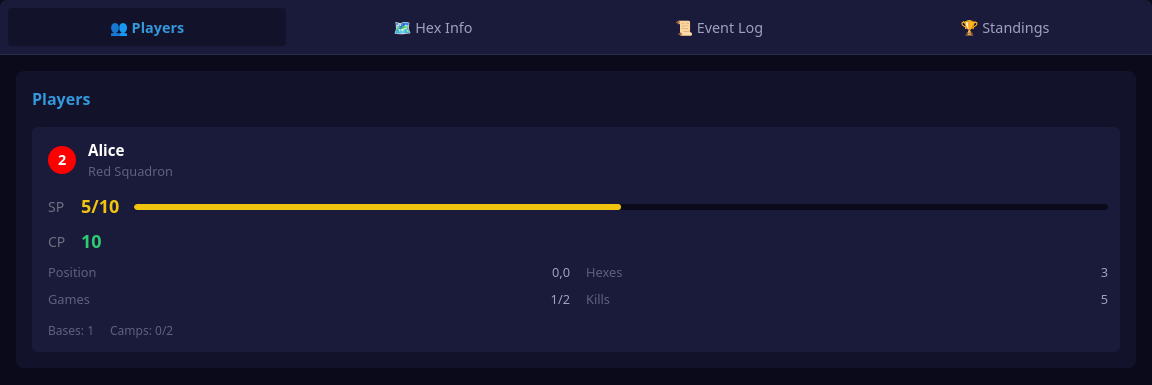
LeftMenuTabs › when rendering tab content › should display event log when Event Log tab is active
What coordinates should you click on to do the following:
click the tab "📜 Event Log"
I would click on:
 (719, 27)
Its box is top-left (580, 8), bottom-right (858, 46).
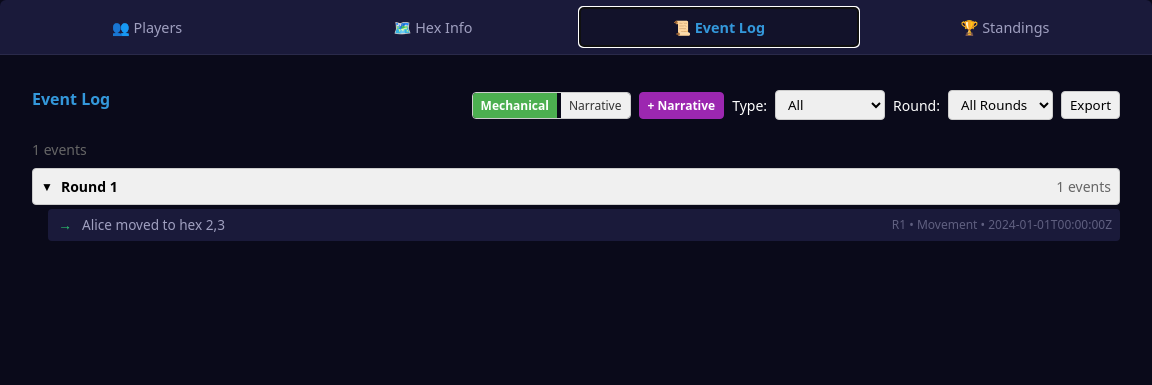
Check: the text "Alice moved to hex 2,3" is shown, box top-left (82, 215), bottom-right (225, 234)
